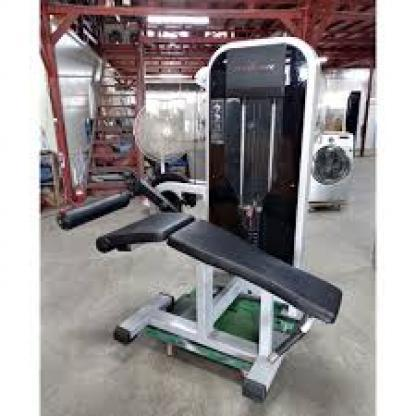reg curl machine: (59, 34, 348, 403)
